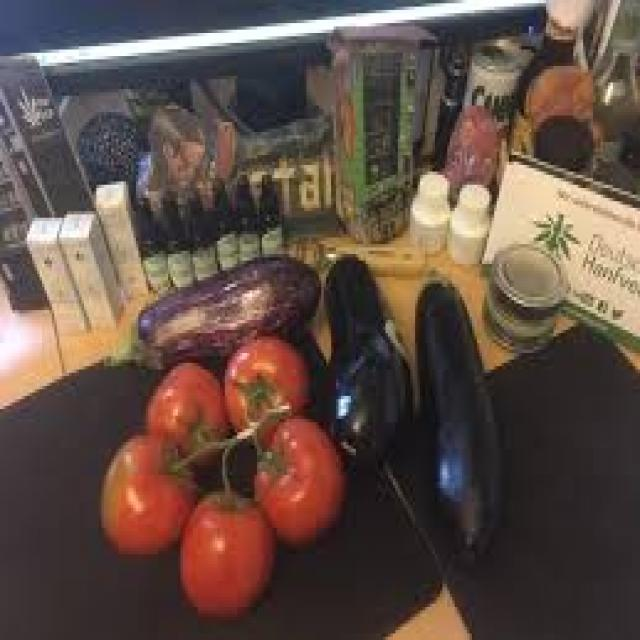organic waste: (104, 250, 319, 370), (415, 264, 499, 557), (324, 251, 410, 468), (252, 409, 344, 548), (99, 432, 198, 551), (178, 485, 272, 610), (143, 359, 225, 472), (220, 330, 304, 439)
